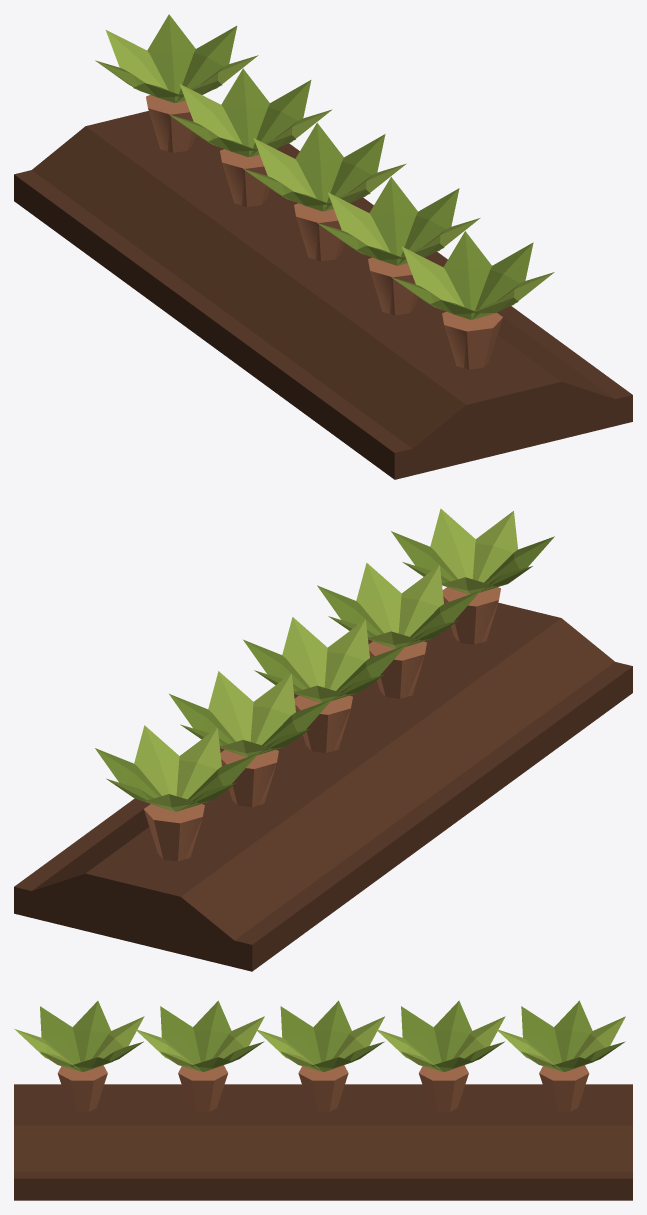
File: 51_carrot_row.fbx
The picture shows the model from 3 angles, top to bottom: view 1: azimuth 30°, elevation 25°; view 2: azimuth 150°, elevation 25°; view 3: azimuth 270°, elevation 25°; orthographic projection. The views are drawn at different scales.
Visible parts, largest first — view 1: 51_carrot_row; view 2: 51_carrot_row; view 3: 51_carrot_row.
Part boxes in pixels (<box>): 51_carrot_row: <box>14,14,632,479</box>; 51_carrot_row: <box>14,508,632,971</box>; 51_carrot_row: <box>14,1000,632,1200</box>.
Bounding box in the file's own units: 0.65 × 0.4 × 1.8.
Materials: 1 (1 with a texture image).
